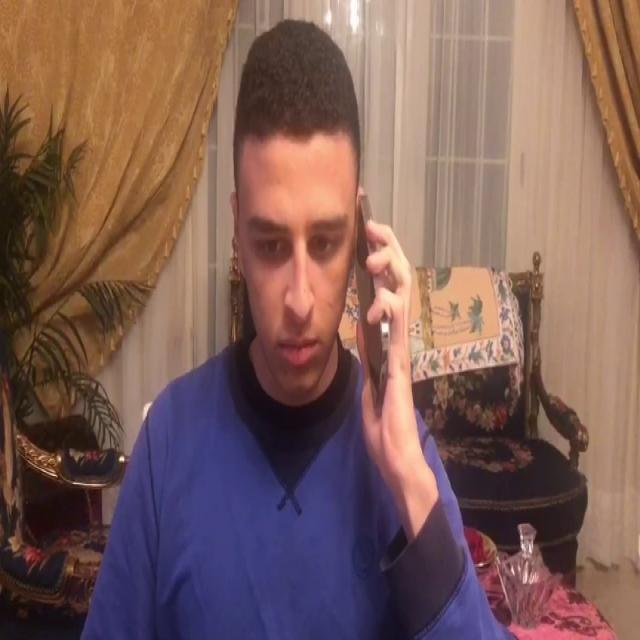phone: (356, 187, 394, 416)
